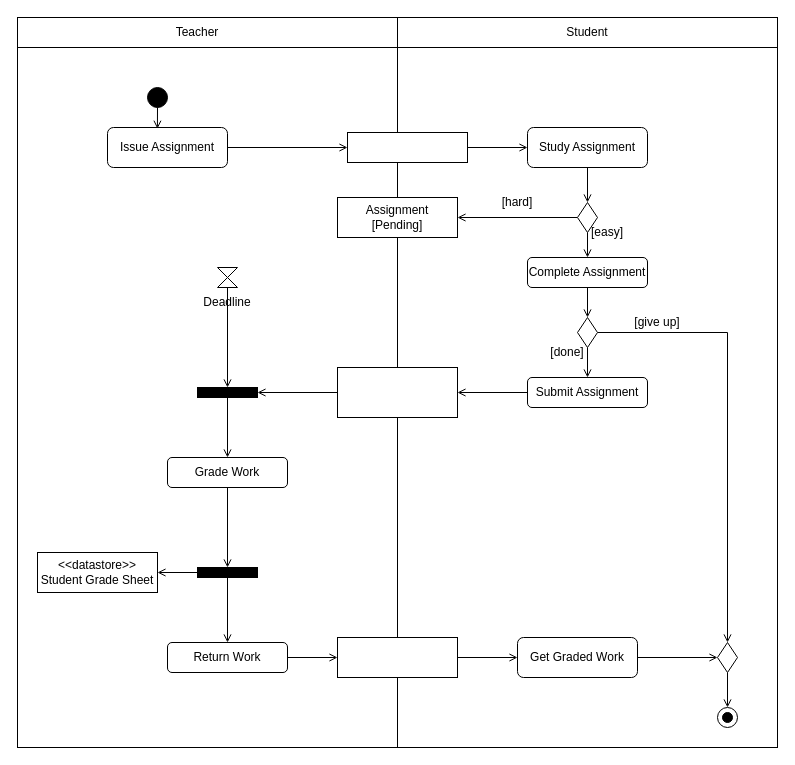
This 795x765 diagram has some shape labels left out. Here are the shapes that lost their labels. From the top down, the centre of each, then its label:
At point (407, 147): "Assignment".
At point (397, 392): "Assignment [Completed]".
At point (397, 657): "Assignment [Graded]".
